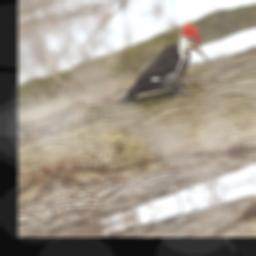Woodpecker: (93, 17, 216, 123)
